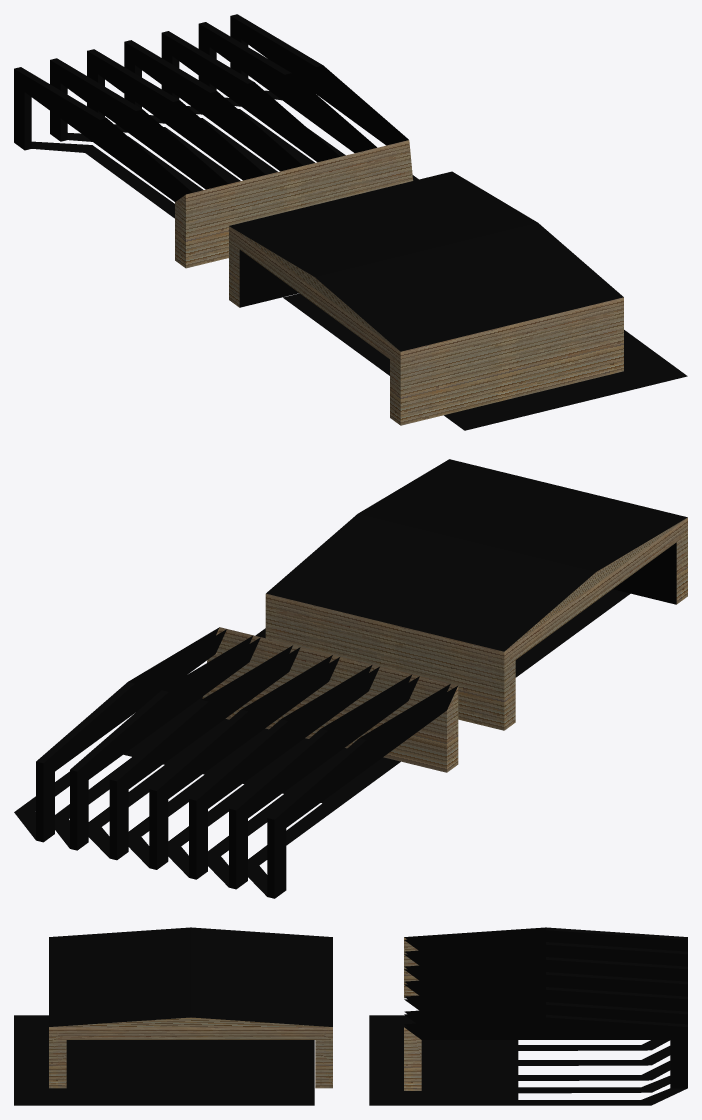
Rendered from hangar4.glb.
The picture shows the model from 3 angles, top to bottom: view 1: azimuth 30°, elevation 25°; view 2: azimuth 150°, elevation 25°; view 3: azimuth 270°, elevation 25°; orthographic projection. The views are drawn at different scales.
Visible parts, largest first — view 1: Hangar2, Hangar1; view 2: Hangar1, Hangar2; view 3: Hangar2, Hangar1.
Boxes of the visible parts, left/top/right/bottom form: Hangar2: left=229, top=171, right=687, bottom=430; Hangar1: left=14, top=14, right=418, bottom=268; Hangar1: left=14, top=627, right=458, bottom=898; Hangar2: left=255, top=459, right=687, bottom=730; Hangar2: left=14, top=927, right=332, bottom=1105; Hangar1: left=369, top=927, right=687, bottom=1105.
Bounding box in the file's own units: 21.8 × 6.71 × 57.87.
3 materials, 1 textured.
